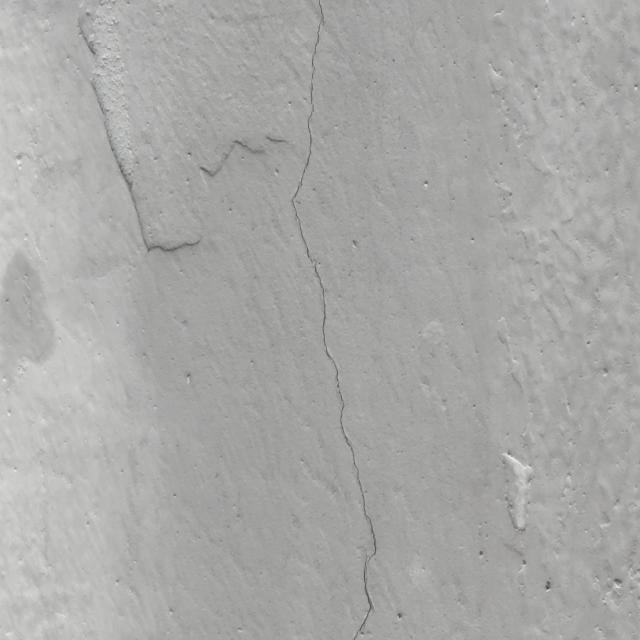SurfaceCrack: (256, 0, 411, 640), (54, 1, 216, 290)
